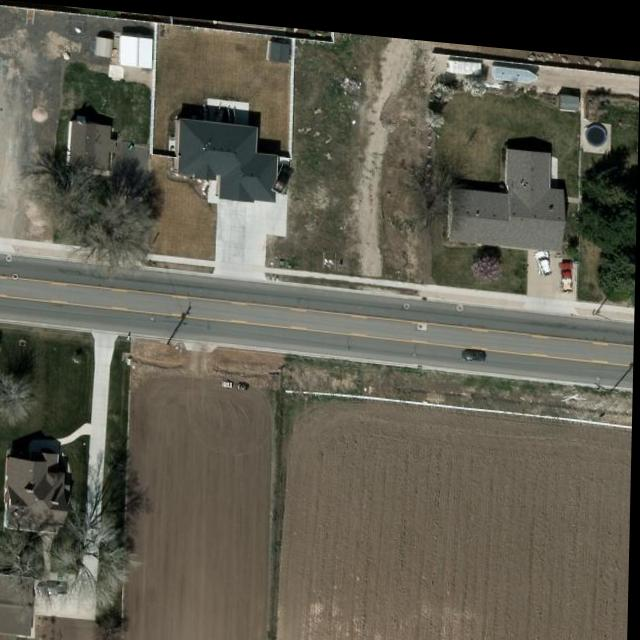vehicle: (38, 579, 72, 599), (275, 158, 294, 191), (559, 250, 575, 282), (536, 239, 553, 266), (463, 340, 488, 353)
